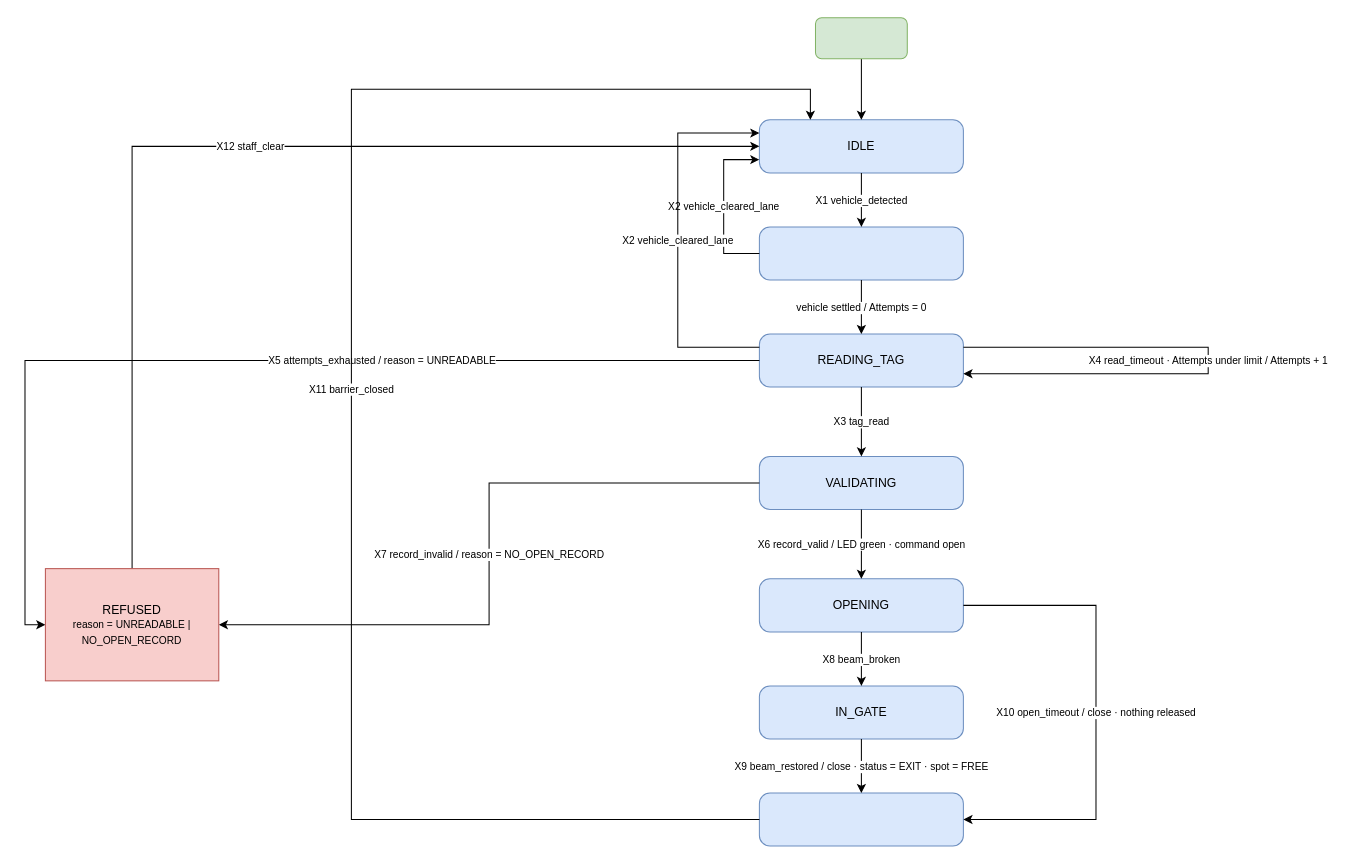
This 1345x864 diagram has some shape labels left out. Here are the shapes that lost their labels. From the top down, the box of each, then its label:
(814, 17, 907, 59): Start
(758, 226, 963, 280): APPROACHING
(758, 792, 963, 846): CLOSING
